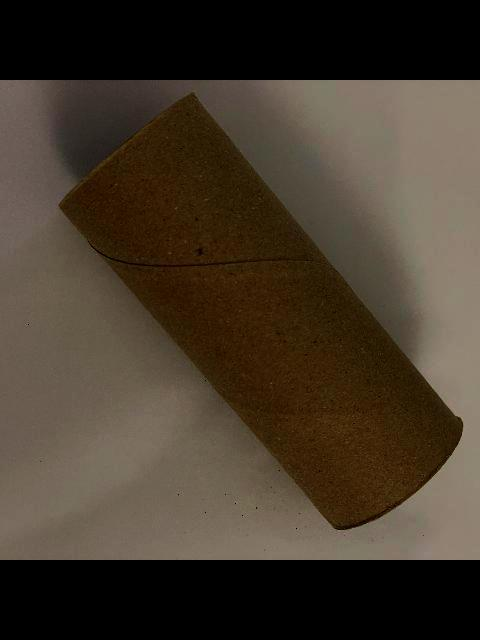tissueroll: (54, 91, 466, 532)
